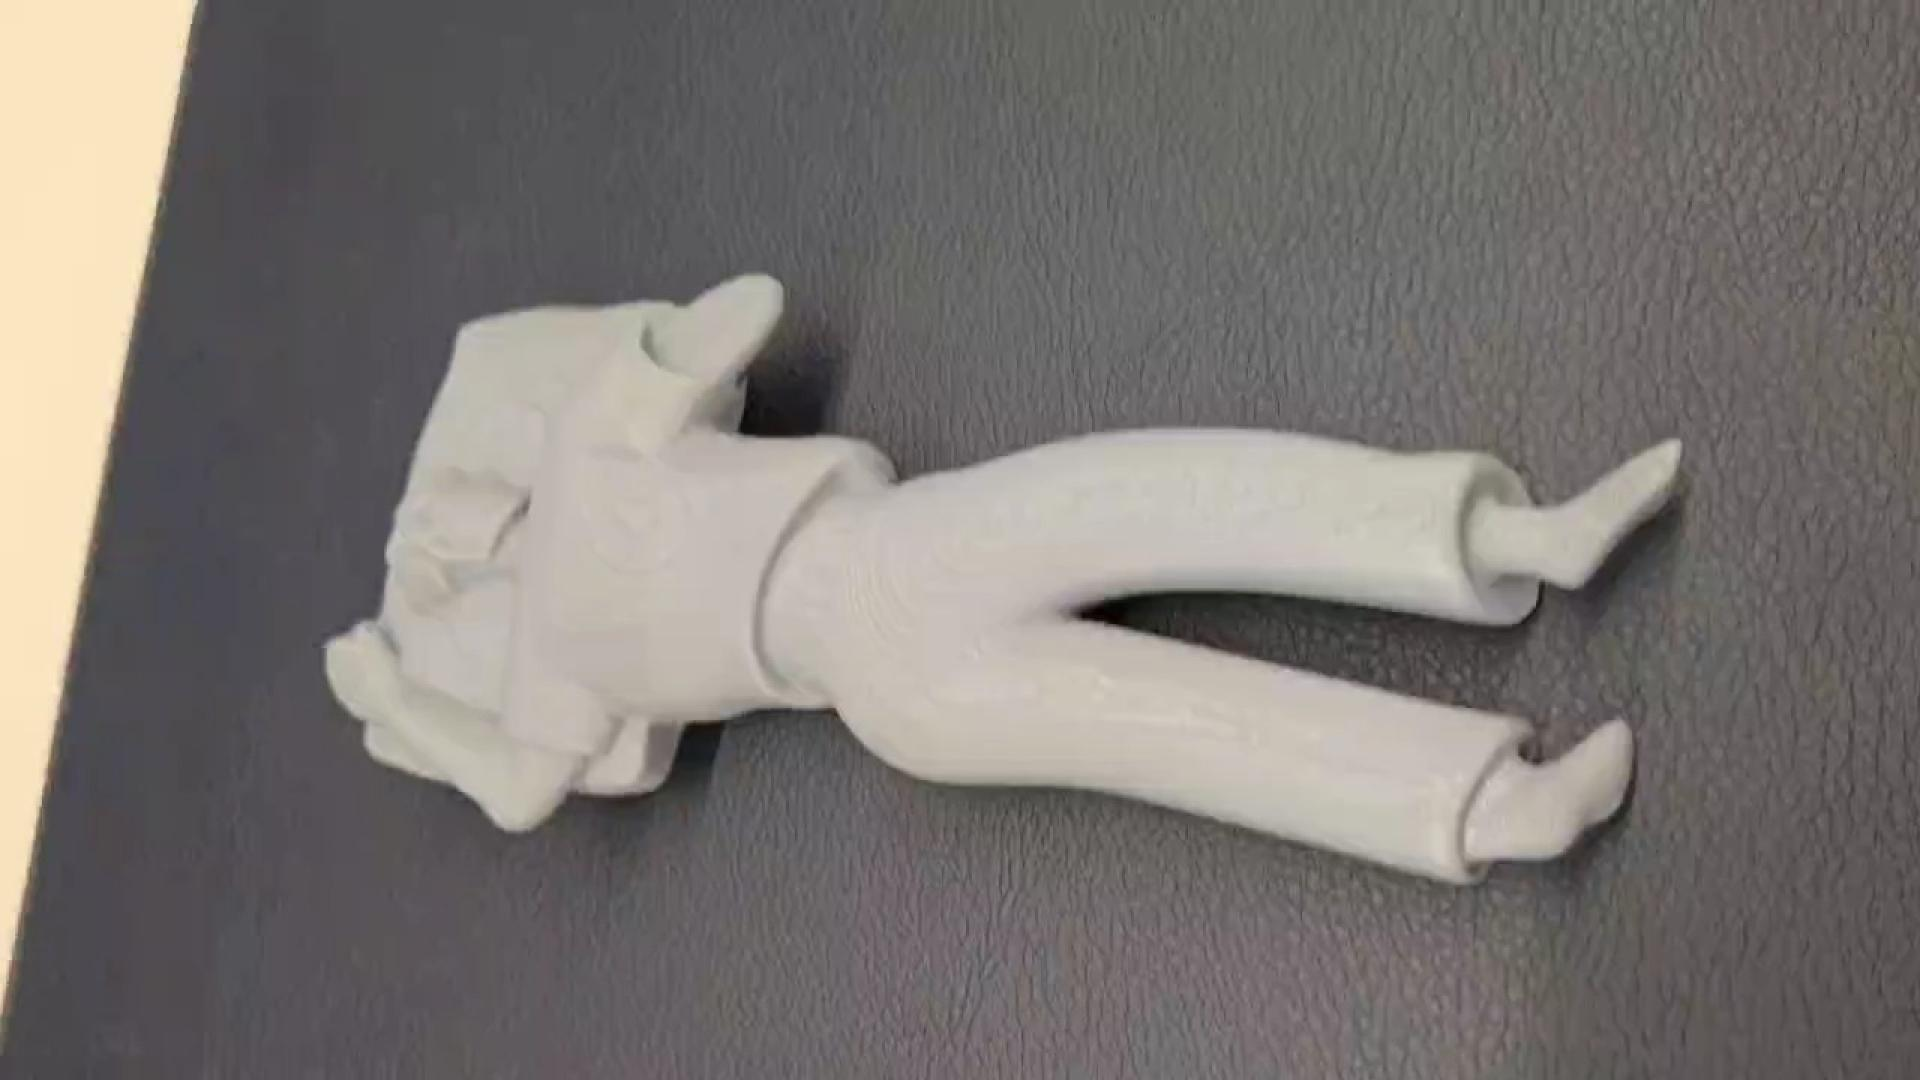Bad-style: (331, 270, 1680, 882)
